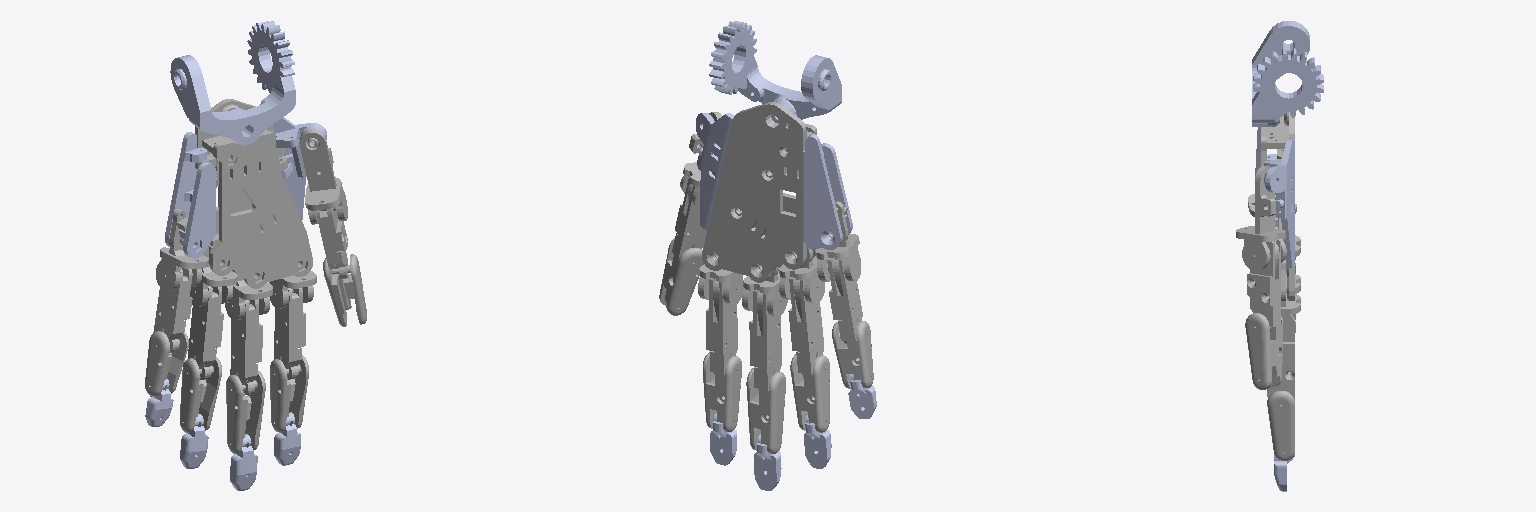
--- Render facts (derived) ---
The picture shows the robot from 3 angles, left to right: view 1: azimuth 30°, elevation 25°; view 2: azimuth 150°, elevation 25°; view 3: azimuth 270°, elevation 25°; orthographic projection.
Robot: testtestest — 24 links, 23 joints (23 revolute); root link link_base; default pose: all joints at 0.
Visible links, largest first — view 1: link_hand, link_wrist, link_pinky_mc, link_thumb_mcp, link_middle_2, link_middle_1, link_ring_1, link_ring_2, link_index_1, link_index_2, link_thumb_mc, link_pinky_2 (+11 smaller); view 2: link_hand, link_wrist, link_pinky_mc, link_middle_2, link_thumb_mc, link_middle_1, link_ring_1, link_ring_2, link_index_1, link_index_2, link_thumb_2, link_pinky_1 (+11 smaller); view 3: link_wrist, link_thumb_mcp, link_thumb_2, link_thumb_mc, link_thumb_1, link_index_2, link_hand, link_index_mcp, link_index_1.
Link boxes in pixels (left/top/right/bottom): link_hand: left=195, top=99, right=312, bottom=288; link_wrist: left=170, top=21, right=295, bottom=145; link_pinky_mc: left=165, top=132, right=215, bottom=258; link_thumb_mcp: left=299, top=129, right=347, bottom=224; link_middle_2: left=226, top=371, right=265, bottom=453; link_middle_1: left=230, top=299, right=262, bottom=394; link_ring_1: left=188, top=286, right=223, bottom=379; link_ring_2: left=180, top=357, right=221, bottom=432; link_index_1: left=274, top=288, right=305, bottom=379; link_index_2: left=270, top=355, right=308, bottom=432; link_thumb_mc: left=271, top=117, right=326, bottom=219; link_pinky_2: left=145, top=331, right=188, bottom=396; link_hand: left=702, top=102, right=816, bottom=282; link_wrist: left=709, top=21, right=841, bottom=123; link_pinky_mc: left=803, top=134, right=852, bottom=249; link_middle_2: left=746, top=368, right=785, bottom=453; link_thumb_mc: left=696, top=113, right=733, bottom=230; link_middle_1: left=749, top=290, right=781, bottom=390; link_ring_1: left=788, top=277, right=823, bottom=374; link_ring_2: left=790, top=354, right=829, bottom=432; link_index_1: left=706, top=278, right=737, bottom=374; link_index_2: left=703, top=352, right=741, bottom=431; link_thumb_2: left=659, top=238, right=703, bottom=315; link_pinky_1: left=827, top=258, right=862, bottom=343; link_wrist: left=1252, top=21, right=1323, bottom=126; link_thumb_mcp: left=1236, top=166, right=1286, bottom=270; link_thumb_2: left=1245, top=313, right=1283, bottom=389; link_thumb_mc: left=1264, top=139, right=1294, bottom=267; link_thumb_1: left=1247, top=239, right=1280, bottom=330; link_index_2: left=1267, top=388, right=1294, bottom=460; link_hand: left=1261, top=112, right=1294, bottom=300; link_index_mcp: left=1281, top=260, right=1300, bottom=341; link_index_1: left=1270, top=314, right=1294, bottom=398.
Bounding box of the posed robot: 0.1135 × 0.041 × 0.2281 m (x, y, z).
23 mesh visuals loaded from 24 distinct referenced files (23 binary STL); not drawn: 1 (reference not matched to a file when rendering).

robot.urdf — testtestest:
<?xml version="1.0" encoding="utf-8"?>
<!-- This URDF was automatically created by SolidWorks to URDF Exporter! Originally created by Stephen Brawner ([email redacted]) 
     Commit Version: 1.6.0-4-g7f85cfe  Build Version: 1.6.7995.38578
     For more information, please see http://wiki.ros.org/sw_urdf_exporter -->
<robot
  name="testtestest">
  <link
    name="link_base">
    <inertial>
      <origin
        xyz="-0.0198047434985936 0.00696657835831933 0.0308754947509077"
        rpy="0 0 0" />
      <mass
        value="1.12177687820252" />
      <inertia
        ixx="0.0003055465069978"
        ixy="7.30796704900667E-07"
        ixz="5.9205620703243E-07"
        iyy="0.00030204773126145"
        iyz="3.72690749474789E-06"
        izz="0.000127986493663226" />
    </inertial>
    <visual>
      <origin
        xyz="0 0 0"
        rpy="0 0 0" />
      <geometry>
        <mesh
          filename="package://testtestest/meshes/link_base.STL" />
      </geometry>
      <material
        name="">
        <color
          rgba="0.752941176470588 0.752941176470588 0.752941176470588 1" />
      </material>
    </visual>
    <collision>
      <origin
        xyz="0 0 0"
        rpy="0 0 0" />
      <geometry>
        <mesh
          filename="package://testtestest/meshes/link_base.STL" />
      </geometry>
    </collision>
  </link>
  <link
    name="link_wrist">
    <inertial>
      <origin
        xyz="-0.0171985391790348 -0.00593413164701311 -0.00994449829096752"
        rpy="0 0 0" />
      <mass
        value="0.0108429852427686" />
      <inertia
        ixx="2.15649154111997E-06"
        ixy="-2.16458612203106E-07"
        ixz="-3.38442515360422E-07"
        iyy="5.30417119113941E-06"
        iyz="-5.88094643327501E-07"
        izz="4.5371222402673E-06" />
    </inertial>
    <visual>
      <origin
        xyz="0 0 0"
        rpy="0 0 0" />
      <geometry>
        <mesh
          filename="package://testtestest/meshes/link_wrist.STL" />
      </geometry>
      <material
        name="">
        <color
          rgba="0.792156862745098 0.819607843137255 0.933333333333333 1" />
      </material>
    </visual>
    <collision>
      <origin
        xyz="0 0 0"
        rpy="0 0 0" />
      <geometry>
        <mesh
          filename="package://testtestest/meshes/link_wrist.STL" />
      </geometry>
    </collision>
  </link>
  <joint
    name="joint_wrist_main"
    type="revolute">
    <origin
      xyz="-0.00076585073356319 0.00177492689368459 -0.102502244685166"
      rpy="0 0 0" />
    <parent
      link="link_base" />
    <child
      link="link_wrist" />
    <axis
      xyz="1 0 0" />
    <limit
      lower="-1.6"
      upper="1.6"
      effort="1"
      velocity="10" />
  </joint>
  <link
    name="link_hand">
    <inertial>
      <origin
        xyz="0.00765510739530203 -0.00706031973310918 -0.0412233540111027"
        rpy="0 0 0" />
      <mass
        value="0.0205763548047501" />
      <inertia
        ixx="9.86447897653442E-06"
        ixy="-1.11591498466975E-08"
        ixz="1.67627466728925E-06"
        iyy="1.3288021983625E-05"
        iyz="9.98374462515415E-08"
        izz="3.53862406091828E-06" />
    </inertial>
    <visual>
      <origin
        xyz="0 0 0"
        rpy="0 0 0" />
      <geometry>
        <mesh
          filename="package://testtestest/meshes/link_hand.STL" />
      </geometry>
      <material
        name="">
        <color
          rgba="0.752941176470588 0.752941176470588 0.752941176470588 1" />
      </material>
    </visual>
    <collision>
      <origin
        xyz="0 0 0"
        rpy="0 0 0" />
      <geometry>
        <mesh
          filename="package://testtestest/meshes/link_hand.STL" />
      </geometry>
    </collision>
  </link>
  <joint
    name="joint_wrist_side"
    type="revolute">
    <origin
      xyz="-0.019 0.00299999999999999 -0.025"
      rpy="0 0 0" />
    <parent
      link="link_wrist" />
    <child
      link="link_hand" />
    <axis
      xyz="0 1 0" />
    <limit
      lower="-0.2"
      upper="0.2"
      effort="1"
      velocity="10" />
  </joint>
  <link
    name="link_pinky_mc">
    <inertial>
      <origin
        xyz="-0.0059203759690887 -0.00253943656114248 -0.000564103820082901"
        rpy="0 0 0" />
      <mass
        value="0.00428637401131624" />
      <inertia
        ixx="8.04620654814358E-07"
        ixy="2.36260932996478E-09"
        ixz="-1.04838916832628E-07"
        iyy="8.58635980335721E-07"
        iyz="4.04006393091763E-09"
        izz="1.06674266554927E-07" />
    </inertial>
    <visual>
      <origin
        xyz="0 0 0"
        rpy="0 0 0" />
      <geometry>
        <mesh
          filename="package://testtestest/meshes/link_pinky_mc.STL" />
      </geometry>
      <material
        name="">
        <color
          rgba="0.792156862745098 0.819607843137255 0.933333333333333 1" />
      </material>
    </visual>
    <collision>
      <origin
        xyz="0 0 0"
        rpy="0 0 0" />
      <geometry>
        <mesh
          filename="package://testtestest/meshes/link_pinky_mc.STL" />
      </geometry>
    </collision>
  </link>
  <joint
    name="joint_pinky_mc"
    type="revolute">
    <origin
      xyz="-0.0161450707519224 -0.00574999999999998 -0.0355"
      rpy="0 0 0" />
    <parent
      link="link_hand" />
    <child
      link="link_pinky_mc" />
    <axis
      xyz="0 0 1" />
    <limit
      lower="0"
      upper="0.2"
      effort="1"
      velocity="10" />
  </joint>
  <link
    name="link_pinky_mcp">
    <inertial>
      <origin
        xyz="-0.000283337272530715 0.000145915839622297 -0.00824838589216256"
        rpy="0 0 0" />
      <mass
        value="0.00263164527125259" />
      <inertia
        ixx="1.23961325248666E-07"
        ixy="-6.95061846353763E-10"
        ixz="6.02485122306581E-09"
        iyy="1.45505516064213E-07"
        iyz="1.11023684980407E-08"
        izz="1.19909747893478E-07" />
    </inertial>
    <visual>
      <origin
        xyz="0 0 0"
        rpy="0 0 0" />
      <geometry>
        <mesh
          filename="package://testtestest/meshes/link_pinky_mcp.STL" />
      </geometry>
      <material
        name="">
        <color
          rgba="0.752941176470588 0.752941176470588 0.752941176470588 1" />
      </material>
    </visual>
    <collision>
      <origin
        xyz="0 0 0"
        rpy="0 0 0" />
      <geometry>
        <mesh
          filename="package://testtestest/meshes/link_pinky_mcp.STL" />
      </geometry>
    </collision>
  </link>
  <joint
    name="joint_pinky_mcp_side"
    type="revolute">
    <origin
      xyz="-0.0105290009722171 -0.00363354352210761 -0.0170240603533944"
      rpy="0 0.174532925199435 0.174532925199434" />
    <parent
      link="link_pinky_mc" />
    <child
      link="link_pinky_mcp" />
    <axis
      xyz="0 -1 0" />
    <limit
      lower="-0.3"
      upper="0.3"
      effort="1"
      velocity="10" />
  </joint>
  <link
    name="link_pinky_1">
    <inertial>
      <origin
        xyz="0.00395146083568317 0.000247987036537793 -0.0149510205819647"
        rpy="0 0 0" />
      <mass
        value="0.00327229681404755" />
      <inertia
        ixx="3.98072470259668E-07"
        ixy="1.41167797983405E-10"
        ixz="2.02951308433353E-08"
        iyy="3.62037977914405E-07"
        iyz="4.92309287639388E-09"
        izz="5.34263549163124E-08" />
    </inertial>
    <visual>
      <origin
        xyz="0 0 0"
        rpy="0 0 0" />
      <geometry>
        <mesh
          filename="package://testtestest/meshes/link_pinky_1.STL" />
      </geometry>
      <material
        name="">
        <color
          rgba="0.752941176470588 0.752941176470588 0.752941176470588 1" />
      </material>
    </visual>
    <collision>
      <origin
        xyz="0 0 0"
        rpy="0 0 0" />
      <geometry>
        <mesh
          filename="package://testtestest/meshes/link_pinky_1.STL" />
      </geometry>
    </collision>
  </link>
  <joint
    name="joint_pinky_1"
    type="revolute">
    <origin
      xyz="-0.00450000000000002 0.001 -0.0165"
      rpy="0 0 0" />
    <parent
      link="link_pinky_mcp" />
    <child
      link="link_pinky_1" />
    <axis
      xyz="-1 0 0" />
    <limit
      lower="-0.1"
      upper="1.6"
      effort="1"
      velocity="10" />
  </joint>
  <link
    name="link_pinky_2">
    <inertial>
      <origin
        xyz="0.00456143296494704 0.00125888236645603 -0.00914548094610548"
        rpy="0 0 0" />
      <mass
        value="0.00244022391195931" />
      <inertia
        ixx="1.60707046367797E-07"
        ixy="6.61808210200058E-09"
        ixz="-2.66702945634091E-09"
        iyy="1.59304764823913E-07"
        iyz="7.16740314410493E-09"
        izz="4.49414600595427E-08" />
    </inertial>
    <visual>
      <origin
        xyz="0 0 0"
        rpy="0 0 0" />
      <geometry>
        <mesh
          filename="package://testtestest/meshes/link_pinky_2.STL" />
      </geometry>
      <material
        name="">
        <color
          rgba="0.752941176470588 0.752941176470588 0.752941176470588 1" />
      </material>
    </visual>
    <collision>
      <origin
        xyz="0 0 0"
        rpy="0 0 0" />
      <geometry>
        <mesh
          filename="package://testtestest/meshes/link_pinky_2.STL" />
      </geometry>
    </collision>
  </link>
  <joint
    name="joint_pinky_2"
    type="revolute">
    <origin
      xyz="-0.000499999999999994 0 -0.034"
      rpy="0 0 0" />
    <parent
      link="link_pinky_1" />
    <child
      link="link_pinky_2" />
    <axis
      xyz="-1 0 0" />
    <limit
      lower="0"
      upper="1.6"
      effort="1"
      velocity="10" />
  </joint>
  <link
    name="link_pinky_3">
    <inertial>
      <origin
        xyz="0.00273030244847279 -0.00104825401586585 -0.00866828360094679"
        rpy="0 0 0" />
      <mass
        value="0.00104723127104546" />
      <inertia
        ixx="3.69490329908385E-08"
        ixy="3.34797510800586E-11"
        ixz="9.9243545371183E-11"
        iyy="4.01865868310451E-08"
        iyz="-2.91666203940721E-09"
        izz="1.21445666314407E-08" />
    </inertial>
    <visual>
      <origin
        xyz="0 0 0"
        rpy="0 0 0" />
      <geometry>
        <mesh
          filename="package://testtestest/meshes/link_pinky_3.STL" />
      </geometry>
      <material
        name="">
        <color
          rgba="0.792156862745098 0.819607843137255 0.933333333333333 1" />
      </material>
    </visual>
    <collision>
      <origin
        xyz="0 0 0"
        rpy="0 0 0" />
      <geometry>
        <mesh
          filename="package://testtestest/meshes/link_pinky_3.STL" />
      </geometry>
    </collision>
  </link>
  <joint
    name="joint_pinky_3"
    type="revolute">
    <origin
      xyz="0.00200000000000002 0.00150000000000002 -0.02"
      rpy="0 0 0" />
    <parent
      link="link_pinky_2" />
    <child
      link="link_pinky_3" />
    <axis
      xyz="-1 0 0" />
    <limit
      lower="0"
      upper="1.6"
      effort="1"
      velocity="10" />
  </joint>
  <link
    name="link_ring_mcp">
    <inertial>
      <origin
        xyz="-0.000128280970110622 0.000145915839652078 -0.00820683868113678"
        rpy="0 0 0" />
      <mass
        value="0.00263164527123809" />
      <inertia
        ixx="1.25480131365887E-07"
        ixy="-4.01601004664966E-10"
        ixz="3.36165360291644E-09"
        iyy="1.45748459576507E-07"
        iyz="1.11810010936279E-08"
        izz="1.18633885289558E-07" />
    </inertial>
    <visual>
      <origin
        xyz="0 0 0"
        rpy="0 0 0" />
      <geometry>
        <mesh
          filename="package://testtestest/meshes/link_ring_mcp.STL" />
      </geometry>
      <material
        name="">
        <color
          rgba="0.752941176470588 0.752941176470588 0.752941176470588 1" />
      </material>
    </visual>
    <collision>
      <origin
        xyz="0 0 0"
        rpy="0 0 0" />
      <geometry>
        <mesh
          filename="package://testtestest/meshes/link_ring_mcp.STL" />
      </geometry>
    </collision>
  </link>
  <joint
    name="joint_ring_mcp"
    type="revolute">
    <origin
      xyz="-0.0101450707519223 -0.00749999999999998 -0.0654910493078137"
      rpy="0 0.104719755119667 0" />
    <parent
      link="link_hand" />
    <child
      link="link_ring_mcp" />
    <axis
      xyz="0 -1 0" />
    <limit
      lower="-0.3"
      upper="0.3"
      effort="1"
      velocity="10" />
  </joint>
  <link
    name="link_ring_1">
    <inertial>
      <origin
        xyz="0.00405308797493035 0.000178262786963203 -0.0179537643681192"
        rpy="0 0 0" />
      <mass
        value="0.00394026493331525" />
      <inertia
        ixx="6.15609469091871E-07"
        ixy="2.23412215794109E-10"
        ixz="2.52391778569582E-08"
        iyy="5.71401434623744E-07"
        iyz="5.59394435907748E-09"
        izz="6.41172815122896E-08" />
    </inertial>
    <visual>
      <origin
        xyz="0 0 0"
        rpy="0 0 0" />
      <geometry>
        <mesh
          filename="package://testtestest/meshes/link_ring_1.STL" />
      </geometry>
      <material
        name="">
        <color
          rgba="0.752941176470588 0.752941176470588 0.752941176470588 1" />
      </material>
    </visual>
    <collision>
      <origin
        xyz="0 0 0"
        rpy="0 0 0" />
      <geometry>
        <mesh
          filename="package://testtestest/meshes/link_ring_1.STL" />
      </geometry>
    </collision>
  </link>
  <joint
    name="joint_ring_1"
    type="revolute">
    <origin
      xyz="-0.0045 0.000999999999999999 -0.0165"
      rpy="0 0 0" />
    <parent
      link="link_ring_mcp" />
    <child
      link="link_ring_1" />
    <axis
      xyz="-1 0 0" />
    <limit
      lower="-0.1"
      upper="1.6"
      effort="1"
      velocity="10" />
  </joint>
  <link
    name="link_ring_2">
    <inertial>
      <origin
        xyz="0.00446298079068673 0.00122161445593798 -0.0115187415677696"
        rpy="0 0 0" />
      <mass
        value="0.00292076813494139" />
      <inertia
        ixx="2.55835412718256E-07"
        ixy="6.51822354204181E-09"
        ixz="-3.3785551106738E-09"
        iyy="2.51129330135437E-07"
        iyz="1.00626484485605E-08"
        izz="5.23171455583012E-08" />
    </inertial>
    <visual>
      <origin
        xyz="0 0 0"
        rpy="0 0 0" />
      <geometry>
        <mesh
          filename="package://testtestest/meshes/link_ring_2.STL" />
      </geometry>
      <material
        name="">
        <color
          rgba="0.752941176470588 0.752941176470588 0.752941176470588 1" />
      </material>
    </visual>
    <collision>
      <origin
        xyz="0 0 0"
        rpy="0 0 0" />
      <geometry>
        <mesh
          filename="package://testtestest/meshes/link_ring_2.STL" />
      </geometry>
    </collision>
  </link>
  <joint
    name="joint_ring_2"
    type="revolute">
    <origin
      xyz="-0.000499999999999992 0 -0.04"
      rpy="0 0 0" />
    <parent
      link="link_ring_1" />
    <child
      link="link_ring_2" />
    <axis
      xyz="-1 0 0" />
    <limit
      lower="0"
      upper="1.6"
      effort="1"
      velocity="10" />
  </joint>
  <link
    name="link_ring_3">
    <inertial>
      <origin
        xyz="0.00273346326321361 -0.00118569648453122 -0.010220878024373"
        rpy="0 0 0" />
      <mass
        value="0.00124657229262691" />
      <inertia
        ixx="5.52254684222925E-08"
        ixy="3.6309699396993E-11"
        ixz="1.31326658080255E-10"
        iyy="5.99001866586665E-08"
        iyz="-3.57844661216647E-09"
        izz="1.49776145995303E-08" />
    </inertial>
    <visual>
      <origin
        xyz="0 0 0"
        rpy="0 0 0" />
      <geometry>
        <mesh
          filename="package://testtestest/meshes/link_ring_3.STL" />
      </geometry>
      <material
        name="">
        <color
          rgba="0.792156862745098 0.819607843137255 0.933333333333333 1" />
      </material>
    </visual>
    <collision>
      <origin
        xyz="0 0 0"
        rpy="0 0 0" />
      <geometry>
        <mesh
          filename="package://testtestest/meshes/link_ring_3.STL" />
      </geometry>
    </collision>
  </link>
  <joint
    name="joint_ring_3"
    type="revolute">
    <origin
      xyz="0.00200000000000001 0.00150000000000002 -0.025"
      rpy="0 0 0" />
    <parent
      link="link_ring_2" />
    <child
      link="link_ring_3" />
    <axis
      xyz="-1 0 0" />
    <limit
      lower="0"
      upper="1.6"
      effort="1"
      velocity="10" />
  </joint>
  <link
    name="link_middle_mcp">
    <inertial>
      <origin
        xyz="-0.000117842821556698 -3.2290121309635E-05 0.00863106423284118"
        rpy="0 0 0" />
      <mass
        value="0.00257819387911544" />
      <inertia
        ixx="1.39311864994492E-07"
        ixy="-9.89440853131927E-11"
        ixz="1.15475280176655E-08"
        iyy="1.19558733303555E-07"
        iyz="3.81149953453432E-10"
        izz="1.18001791996955E-07" />
    </inertial>
    <visual>
      <origin
        xyz="0 0 0"
        rpy="0 0 0" />
      <geometry>
        <mesh
          filename="package://testtestest/meshes/link_middle_mcp.STL" />
      </geometry>
      <material
        name="">
        <color
          rgba="0.752941176470588 0.752941176470588 0.752941176470588 1" />
      </material>
    </visual>
    <collision>
      <origin
        xyz="0 0 0"
        rpy="0 0 0" />
      <geometry>
        <mesh
          filename="package://testtestest/meshes/link_middle_mcp.STL" />
      </geometry>
    </collision>
  </link>
  <joint
    name="joint_middle_mcp"
    type="revolute">
    <origin
      xyz="0.00780931239999957 -0.00749999999999997 -0.0761512615774632"
      rpy="3.12413936106984 0 -1.5707963267949" />
    <parent
      link="link_hand" />
    <child
      link="link_middle_mcp" />
    <axis
      xyz="1 0 0" />
    <limit
      lower="-0.3"
      upper="0.3"
      effort="1"
      velocity="10" />
  </joint>
  <link
    name="link_middle_1">
    <inertial>
      <origin
        xyz="0.00407970384588537 0.00015994121260206 -0.0189515956853987"
        rpy="0 0 0" />
      <mass
        value="0.00416300946914835" />
      <inertia
        ixx="7.03543545256527E-07"
        ixy="2.51933528354199E-10"
        ixz="2.68622145176166E-08"
        iyy="6.56611173021955E-07"
        iyz="5.83300706902361E-09"
        izz="6.76667218723815E-08" />
    </inertial>
    <visual>
      <origin
        xyz="0 0 0"
        rpy="0 0 0" />
      <geometry>
        <mesh
          filename="package://testtestest/meshes/link_middle_1.STL" />
      </geometry>
      <material
        name="">
        <color
          rgba="0.752941176470588 0.752941176470588 0.752941176470588 1" />
      </material>
    </visual>
    <collision>
      <origin
        xyz="0 0 0"
        rpy="0 0 0" />
      <geometry>
        <mesh
          filename="package://testtestest/meshes/link_middle_1.STL" />
      </geometry>
    </collision>
  </link>
  <joint
    name="joint_middle_1"
    type="revolute">
    <origin
      xyz="-0.00100000000000003 0.00450000000000001 0.0165"
      rpy="-3.14159265358979 0 -1.5707963267949" />
    <parent
      link="link_middle_mcp" />
    <child
      link="link_middle_1" />
    <axis
      xyz="-1 0 0" />
    <limit
      lower="-0.1"
      upper="1.6"
      effort="1"
      velocity="10" />
  </joint>
  <link
    name="link_middle_2">
    <inertial>
      <origin
        xyz="0.00441803711990407 0.00120362820273458 -0.0129338632538621"
        rpy="0 0 0" />
      <mass
        value="0.00320875460827939" />
      <inertia
        ixx="3.29000974847859E-07"
        ixy="6.44086325789347E-09"
        ixz="-3.85687165030129E-09"
        iyy="3.2226748549911E-07"
        iyz="1.20600678651283E-08"
        izz="5.66164496085447E-08" />
    </inertial>
    <visual>
      <origin
        xyz="0 0 0"
        rpy="0 0 0" />
      <geometry>
        <mesh
          filename="package://testtestest/meshes/link_middle_2.STL" />
      </geometry>
      <material
        name="">
        <color
          rgba="0.752941176470588 0.752941176470588 0.752941176470588 1" />
      </material>
    </visual>
    <collision>
      <origin
        xyz="0 0 0"
        rpy="0 0 0" />
      <geometry>
        <mesh
          filename="package://testtestest/meshes/link_middle_2.STL" />
      </geometry>
    </collision>
  </link>
  <joint
    name="joint_middle_2"
    type="revolute">
    <origin
      xyz="-0.000499999999999994 0 -0.042"
      rpy="0 0 0" />
    <parent
      link="link_middle_1" />
    <child
      link="link_middle_2" />
    <axis
      xyz="-1 0 0" />
    <limit
      lower="0"
      upper="1.6"
      effort="1"
      velocity="10" />
  </joint>
  <link
    name="link_middle_3">
    <inertial>
      <origin
        xyz="0.00273429282506582 -0.00122191661438267 -0.0107361502959073"
        rpy="0 0 0" />
      <mass
        value="0.0013130030079715" />
      <inertia
        ixx="6.25246682247581E-08"
        ixy="3.70996169521545E-11"
        ixz="1.41980442210244E-10"
        iyy="6.76896006384159E-08"
        iyz="-3.79867940761502E-09"
        izz="1.59107654108704E-08" />
    </inertial>
    <visual>
      <origin
        xyz="0 0 0"
        rpy="0 0 0" />
      <geometry>
        <mesh
          filename="package://testtestest/meshes/link_middle_3.STL" />
      </geometry>
      <material
        name="">
        <color
          rgba="0.792156862745098 0.819607843137255 0.933333333333333 1" />
      </material>
    </visual>
    <collision>
      <origin
        xyz="0 0 0"
        rpy="0 0 0" />
      <geometry>
        <mesh
          filename="package://testtestest/meshes/link_middle_3.STL" />
      </geometry>
    </collision>
  </link>
  <joint
    name="joint_middle_3"
    type="revolute">
    <origin
      xyz="0.002 0.00150000000000001 -0.028"
      rpy="0 0 0" />
    <parent
      link="link_middle_2" />
    <child
      link="link_middle_3" />
    <axis
      xyz="-1 0 0" />
    <limit
      lower="0"
      upper="1.6"
      effort="1"
      velocity="10" />
  </joint>
  <link
    name="link_index_mcp">
    <inertial>
      <origin
        xyz="3.16342761033286E-05 0.000145915839652068 -0.00819284790996799"
        rpy="0 0 0" />
      <mass
        value="0.00263164527123809" />
      <inertia
        ixx="1.26005043551728E-07"
        ixy="-9.89440853132062E-11"
        ixz="3.8114995345335E-10"
        iyy="1.4583026933012E-07"
        iyz="1.12074801430089E-08"
        izz="1.1819078285733E-07" />
    </inertial>
    <visual>
      <origin
        xyz="0 0 0"
        rpy="0 0 0" />
      <geometry>
        <mesh
          filename="package://testtestest/meshes/link_index_mcp.STL" />
      </geometry>
      <material
        name="">
        <color
          rgba="0.752941176470588 0.752941176470588 0.752941176470588 1" />
      </material>
    </visual>
    <collision>
      <origin
        xyz="0 0 0"
        rpy="0 0 0" />
      <geometry>
        <mesh
          filename="package://testtestest/meshes/link_index_mcp.STL" />
      </geometry>
    </collision>
  </link>
  <joint
    name="joint_index_mcp"
    type="revolute">
    <origin
      xyz="0.0306073497516695 -0.00749999999999997 -0.075651768923"
      rpy="0 0.0174532925199501 0" />
    <parent
      link="link_hand" />
    <child
      link="link_index_mcp" />
    <axis
      xyz="0 -1 0" />
    <limit
      lower="-0.3"
      upper="0.3"
      effort="1"
      velocity="10" />
  </joint>
  <link
    name="link_index_1">
    <inertial>
      <origin
        xyz="0.00405308764842282 0.000178270133569684 -0.0179537540622485"
        rpy="0 0 0" />
      <mass
        value="0.00394026516494631" />
      <inertia
        ixx="6.15611020964418E-07"
        ixy="2.23382112136515E-10"
        ixz="2.5239150826702E-08"
        iyy="5.71402375000205E-07"
        iyz="5.59305453397134E-09"
        izz="6.41178911554499E-08" />
    </inertial>
    <visual>
      <origin
        xyz="0 0 0"
        rpy="0 0 0" />
      <geometry>
        <mesh
          filename="package://testtestest/meshes/link_index_1.STL" />
      </geometry>
      <material
        name="">
        <color
          rgba="0.752941176470588 0.752941176470588 0.752941176470588 1" />
      </material>
    </visual>
    <collision>
      <origin
        xyz="0 0 0"
        rpy="0 0 0" />
      <geometry>
        <mesh
          filename="package://testtestest/meshes/link_index_1.STL" />
      </geometry>
    </collision>
  </link>
  <joint
    name="joint_index_1"
    type="revolute">
    <origin
      xyz="-0.00450000000000001 0.000999999999999989 -0.0165"
      rpy="0 0 0" />
    <parent
      link="link_index_mcp" />
    <child
      link="link_index_1" />
    <axis
      xyz="-1 0 0" />
    <limit
      lower="0"
      upper="1.6"
      effort="1"
      velocity="10" />
  </joint>
  <link
    name="link_index_2">
    <inertial>
      <origin
        xyz="0.00446296119988491 0.00122163503978913 -0.0115187013694416"
        rpy="0 0 0" />
      <mass
        value="0.002920797680813" />
      <inertia
        ixx="2.55838373927926E-07"
        ixy="6.51888341355684E-09"
        ixz="-3.37885691837302E-09"
        iyy="2.51133062722743E-07"
        iyz="1.00629632316855E-08"
        izz="5.23195205691051E-08" />
    </inertial>
    <visual>
      <origin
        xyz="0 0 0"
        rpy="0 0 0" />
      <geometry>
        <mesh
          filename="package://testtestest/meshes/link_index_2.STL" />
      </geometry>
      <material
        name="">
        <color
          rgba="0.752941176470588 0.752941176470588 0.752941176470588 1" />
      </material>
    </visual>
    <collision>
      <origin
        xyz="0 0 0"
        rpy="0 0 0" />
      <geometry>
        <mesh
          filename="package://testtestest/meshes/link_index_2.STL" />
      </geometry>
    </collision>
  </link>
  <joint
    name="joint_index_2"
    type="revolute">
    <origin
      xyz="-0.000499999999999995 0 -0.04"
      rpy="0 0 0" />
    <parent
      link="link_index_1" />
    <child
      link="link_index_2" />
    <axis
      xyz="-1 0 0" />
    <limit
      lower="0"
      upper="1.6"
      effort="1"
      velocity="10" />
  </joint>
  <link
    name="link_index_3">
    <inertial>
      <origin
        xyz="0.00273253534209424 -0.00114522473387511 -0.00970460697910508"
        rpy="0 0 0" />
      <mass
        value="0.00118012897979872" />
      <inertia
        ixx="4.85518134221124E-08"
        ixy="3.54755053075412E-11"
        ixz="1.20647248580129E-10"
        iyy="5.27414912867098E-08"
        iyz="-3.35837192895355E-09"
        izz="1.4039270677158E-08" />
    </inertial>
    <visual>
      <origin
        xyz="0 0 0"
        rpy="0 0 0" />
      <geometry>
        <mesh
          filename="package://testtestest/meshes/link_index_3.STL" />
      </geometry>
      <material
        name="">
        <color
          rgba="0.792156862745098 0.819607843137255 0.933333333333333 1" />
      </material>
    </visual>
    <collision>
      <origin
        xyz="0 0 0"
        rpy="0 0 0" />
      <geometry>
        <mesh
          filename="package://testtestest/meshes/link_index_3.STL" />
      </geometry>
    </collision>
  </link>
  <joint
    name="joint_index_3"
    type="revolute">
    <origin
      xyz="0.00200000000000001 0.00150000000000002 -0.025"
      rpy="0 0 0" />
    <parent
      link="link_index_2" />
    <child
      link="link_index_3" />
    <axis
      xyz="-1 0 0" />
    <limit
      lower="0"
      upper="1.6"
      effort="1"
      velocity="10" />
  </joint>
  <link
    name="link_thumb_mc">
    <inertial>
      <origin
        xyz="0.00711320476744043 0.000457447374365598 -0.0137466528824133"
        rpy="0 0 0" />
      <mass
        value="0.00291991029737827" />
      <inertia
        ixx="5.73009820964478E-07"
        ixy="3.46849168960326E-08"
        ixz="-5.29034493240205E-08"
        iyy="6.28792048923392E-07"
        iyz="5.07872854108302E-08"
        izz="1.17992653471119E-07" />
    </inertial>
    <visual>
      <origin
        xyz="0 0 0"
        rpy="0 0 0" />
      <geometry>
        <mesh
          filename="package://testtestest/meshes/link_thumb_mc.STL" />
      </geometry>
      <material
        name="">
        <color
          rgba="0.792156862745098 0.819607843137255 0.933333333333333 1" />
      </material>
    </visual>
    <collision>
      <origin
        xyz="0 0 0"
        rpy="0 0 0" />
      <geometry>
        <mesh
          filename="package://testtestest/meshes/link_thumb_mc.STL" />
      </geometry>
    </collision>
  </link>
  <joint
    name="joint_thumb_mc"
    type="revolute">
    <origin
      xyz="0.0227192578001802 -0.00574999999999998 -0.0138123997738346"
      rpy="0 -0.223267551634933 0" />
    <parent
      link="link_hand" />
    <child
      link="link_thumb_mc" />
    <axis
      xyz="0 0 1" />
    <limit
      lower="-1"
      upper="0"
      effort="1"
      velocity="10" />
  </joint>
  <link
    name="link_thumb_mcp">
    <inertial>
      <origin
        xyz="0.000248323675863079 0.000717288340887804 -0.0233313385589793"
        rpy="0 0 0" />
      <mass
        value="0.00311170642185562" />
      <inertia
        ixx="1.72231627807798E-07"
        ixy="-2.66189183206315E-09"
        ixz="-2.09220212904798E-11"
        iyy="1.96846821830975E-07"
        iyz="8.91560650155183E-09"
        izz="1.27614511266352E-07" />
    </inertial>
    <visual>
      <origin
        xyz="0 0 0"
        rpy="0 0 0" />
      <geometry>
        <mesh
          filename="package://testtestest/meshes/link_thumb_mcp.STL" />
      </geometry>
      <material
        name="">
        <color
          rgba="0.752941176470588 0.752941176470588 0.752941176470588 1" />
      </material>
    </visual>
    <collision>
      <origin
        xyz="0 0 0"
        rpy="0 0 0" />
      <geometry>
        <mesh
          filename="package://testtestest/meshes/link_thumb_mcp.STL" />
      </geometry>
    </collision>
  </link>
  <joint
    name="joint_thumb_mcp"
    type="revolute">
    <origin
      xyz="0.0129168755120969 -0.00935641802414214 -0.00600000000000001"
      rpy="0 0 -0.610865238198009" />
    <parent
      link="link_thumb_mc" />
    <child
      link="link_thumb_mcp" />
    <axis
      xyz="0 -1 0" />
    <limit
      lower="0"
      upper="0.8"
      effort="1"
      velocity="10" />
  </joint>
  <link
    name="link_thumb_1">
    <inertial>
      <origin
        xyz="0.00395145904443298 0.00024799971333659 -0.0149510006535248"
        rpy="0 0 0" />
      <mass
        value="0.00327229903230145" />
      <inertia
        ixx="3.98074330928105E-07"
        ixy="1.41155033692267E-10"
        ixz="2.0295162347805E-08"
        iyy="3.62039198923064E-07"
        iyz="4.92207864673465E-09"
        izz="5.34269905393817E-08" />
    </inertial>
    <visual>
      <origin
        xyz="0 0 0"
        rpy="0 0 0" />
      <geometry>
        <mesh
          filename="package://testtestest/meshes/link_thumb_1.STL" />
      </geometry>
      <material
        name="">
        <color
          rgba="0.752941176470588 0.752941176470588 0.752941176470588 1" />
      </material>
    </visual>
    <collision>
      <origin
        xyz="0 0 0"
        rpy="0 0 0" />
      <geometry>
        <mesh
          filename="package://testtestest/meshes/link_thumb_1.STL" />
      </geometry>
    </collision>
  </link>
  <joint
    name="joint_thumb_1"
    type="revolute">
    <origin
      xyz="-0.00449999999999999 0.001 -0.035"
      rpy="0 0 0" />
    <parent
      link="link_thumb_mcp" />
    <child
      link="link_thumb_1" />
    <axis
      xyz="-1 0 0" />
    <limit
      lower="-0.1"
      upper="1.6"
      effort="1"
      velocity="10" />
  </joint>
  <link
    name="link_thumb_2">
    <inertial>
      <origin
        xyz="0.00446297038914131 0.0012215579164801 -0.01151880563547"
        rpy="0 0 0" />
      <mass
        value="0.00292075785136136" />
      <inertia
        ixx="2.55832859836551E-07"
        ixy="6.51807485926867E-09"
        ixz="-3.37829871971657E-09"
        iyy="2.51128142487511E-07"
        iyz="1.00626749973295E-08"
        izz="5.23154182512874E-08" />
    </inertial>
    <visual>
      <origin
        xyz="0 0 0"
        rpy="0 0 0" />
      <geometry>
        <mesh
          filename="package://testtestest/meshes/link_thumb_2.STL" />
      </geometry>
      <material
        name="">
        <color
          rgba="0.752941176470588 0.752941176470588 0.752941176470588 1" />
      </material>
    </visual>
    <collision>
      <origin
        xyz="0 0 0"
        rpy="0 0 0" />
      <geometry>
        <mesh
          filename="package://testtestest/meshes/link_thumb_2.STL" />
      </geometry>
    </collision>
  </link>
  <joint
    name="joint_thumb_2"
    type="revolute">
    <origin
      xyz="-0.000499999999999997 0 -0.034"
      rpy="0 0 0" />
    <parent
      link="link_thumb_1" />
    <child
      link="link_thumb_2" />
    <axis
      xyz="-1 0 0" />
    <limit
      lower="0"
      upper="1.6"
      effort="1"
      velocity="10" />
  </joint>
</robot>
